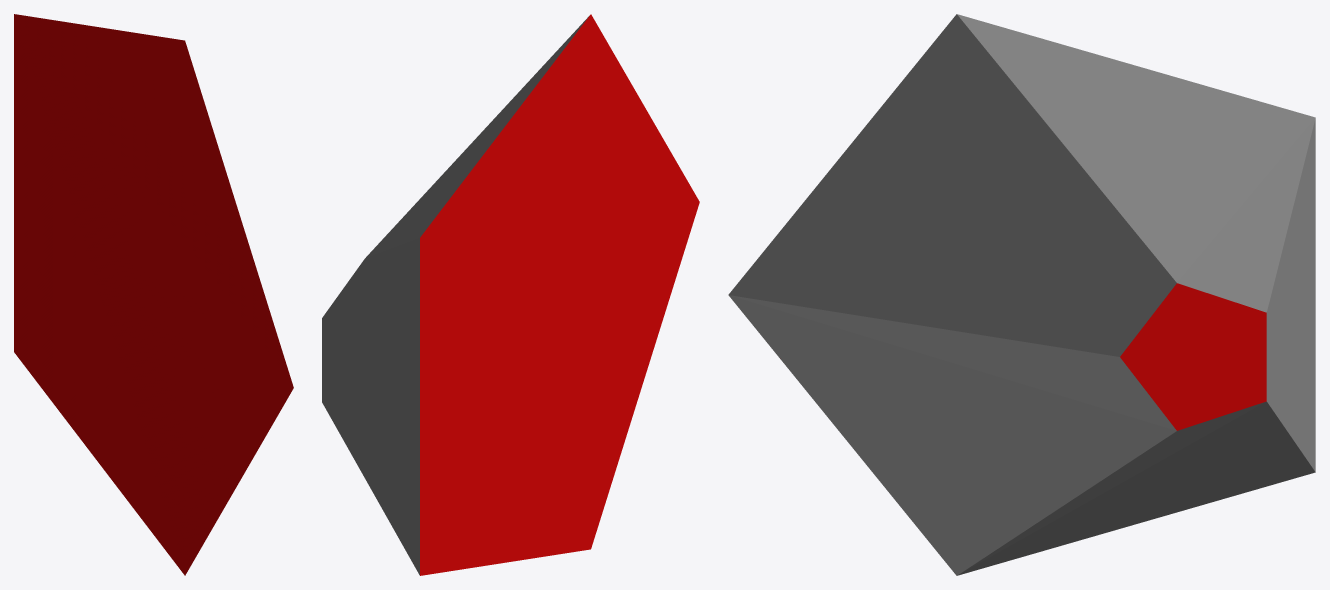
File: tharglet.obj
3 views of the same model, side by side, from view 1: azimuth 30°, elevation 25°; view 2: azimuth 150°, elevation 25°; view 3: azimuth 270°, elevation 25° (orthographic). The views are drawn at different scales.
Bounding box in the file's own units: 18 × 76 × 72.
